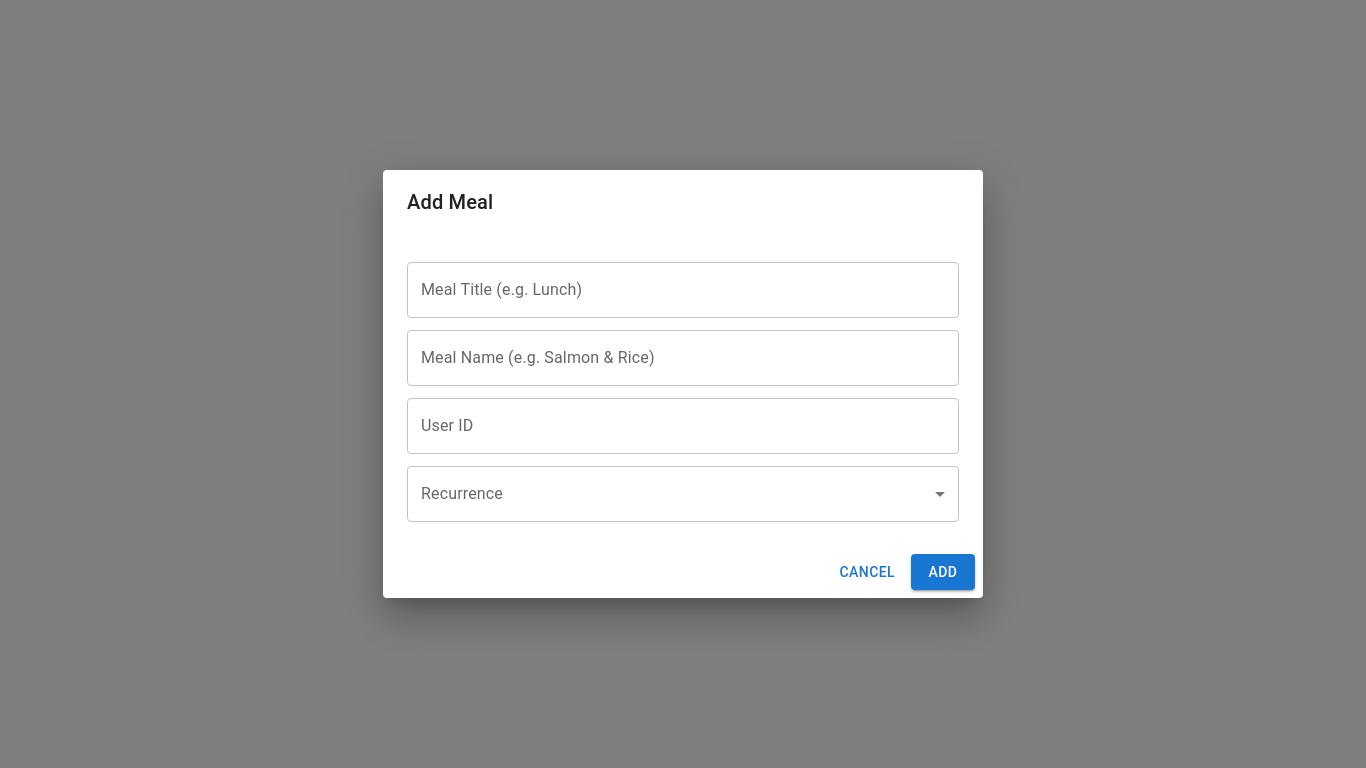
CreateMealDialog › shows error messages when required fields are empty
Click the button "Add": {"x": 943, "y": 572} [911,554,975,590]
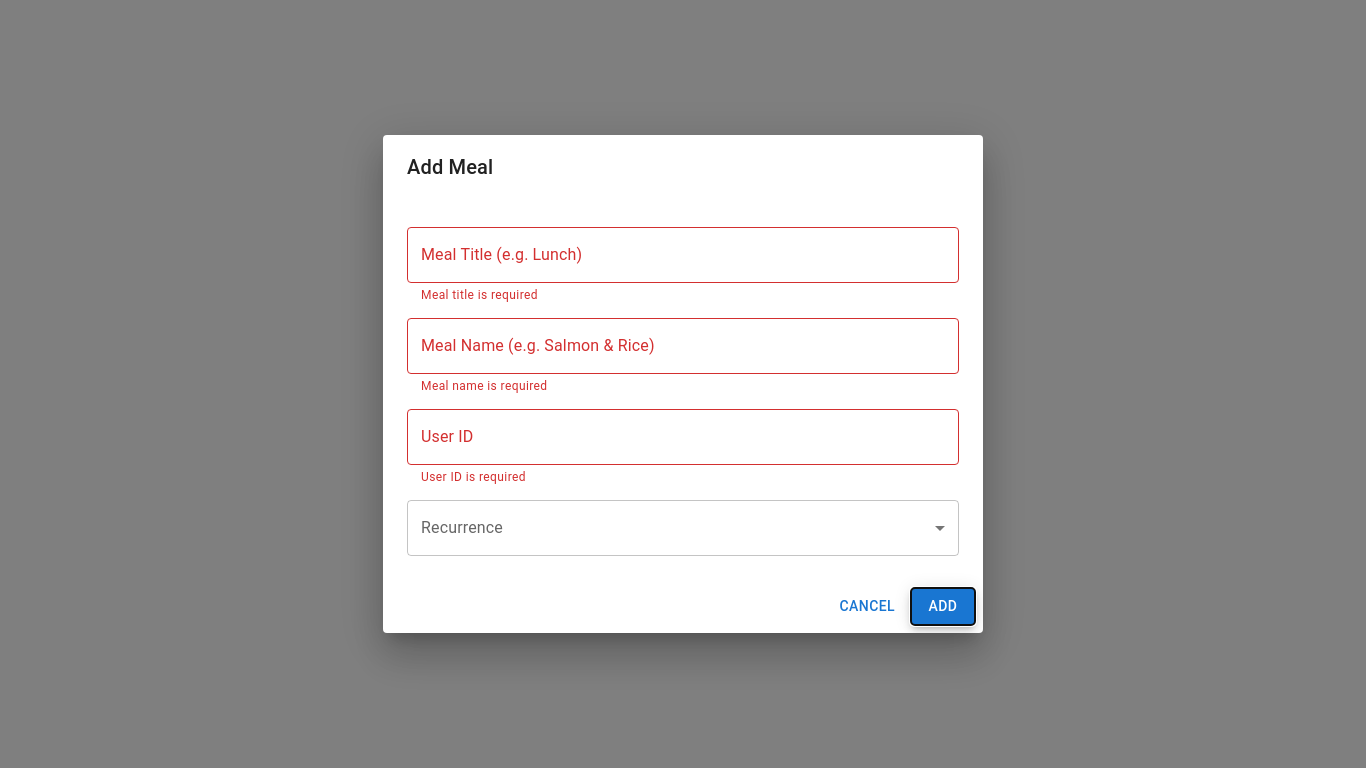
Expected: the text "Meal title is required" is shown, [421,288,538,302]
Expected: the text "Meal name is required" is shown, [421,379,548,393]
Expected: the text "User ID is required" is shown, [421,470,526,484]
